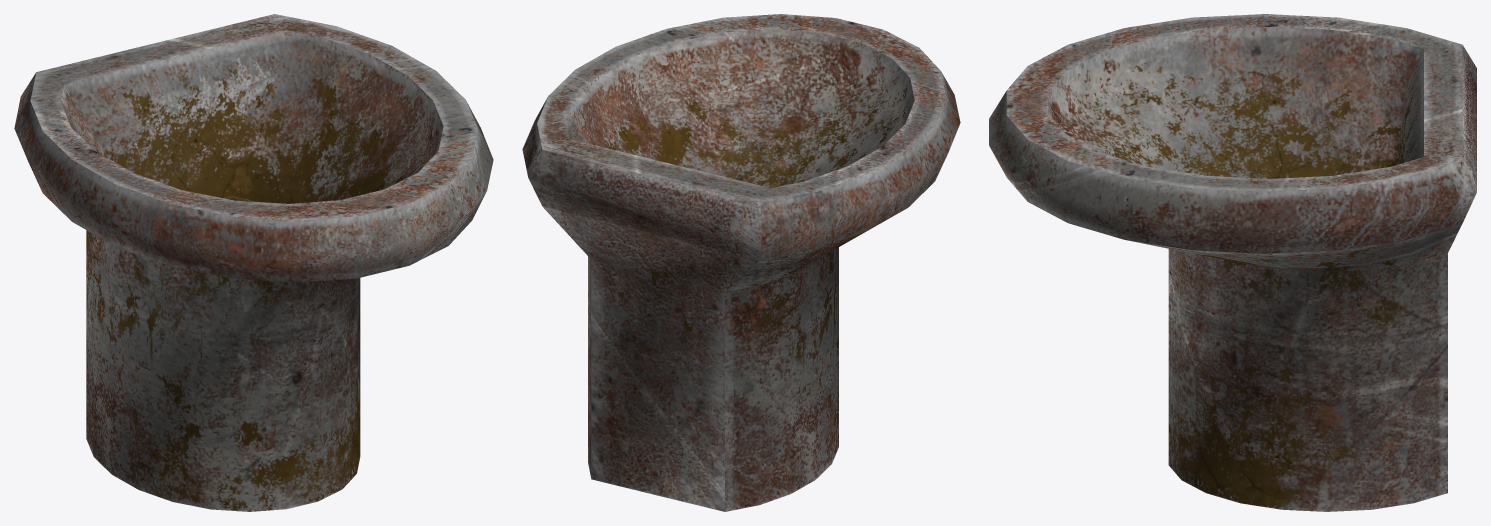
File: Unitaz.FBX
The picture shows the model from 3 angles, left to right: view 1: azimuth 30°, elevation 25°; view 2: azimuth 150°, elevation 25°; view 3: azimuth 270°, elevation 25°; orthographic projection. The views are drawn at different scales.
Visible parts, largest first — view 1: Unitaz; view 2: Unitaz; view 3: Unitaz.
Part boxes in pixels (bbox=[...]): Unitaz: bbox=[14, 14, 493, 511]; Unitaz: bbox=[522, 14, 960, 511]; Unitaz: bbox=[989, 14, 1476, 511].
Size of the model in its own units: 3.08 by 2.68 by 3.33.
